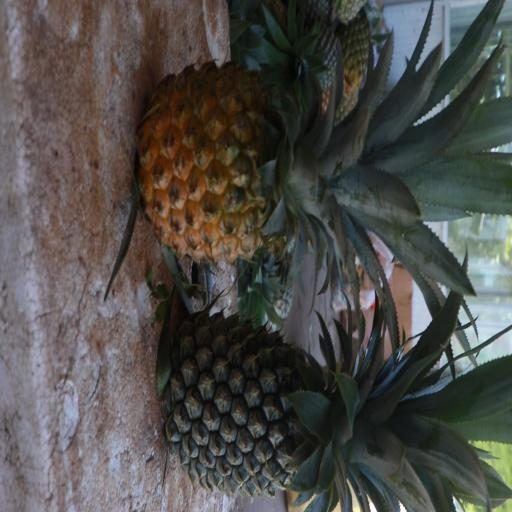Pineapple - v8 v1: (136, 66, 445, 264)
